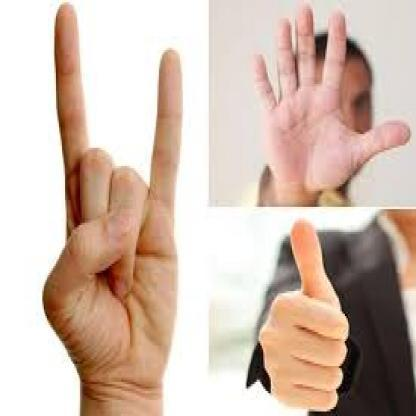stop: (248, 1, 414, 196)
thumb_up: (260, 216, 350, 412)
